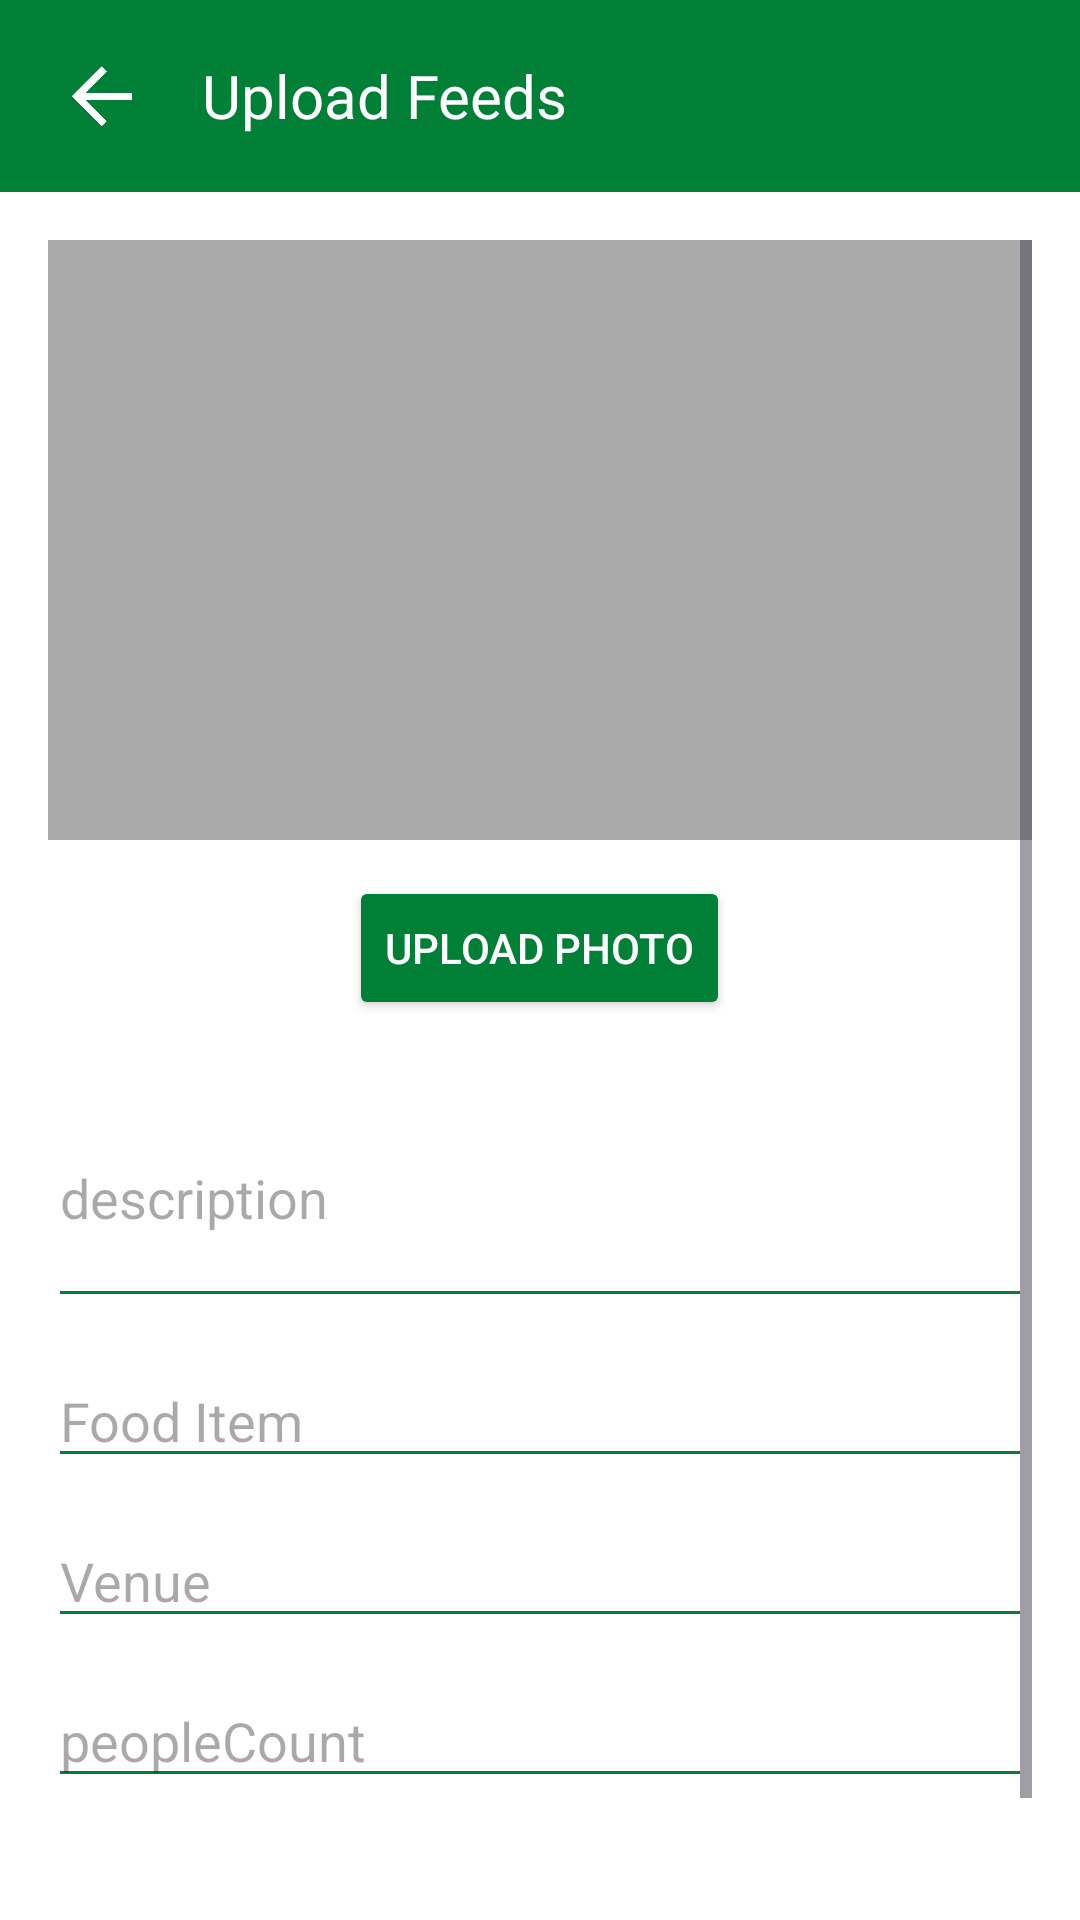

Locate icon controls on the screen. Image size 1080px×1920px, boxes as (x1, y1, x2, y2).
back button: (72, 66, 132, 126)
